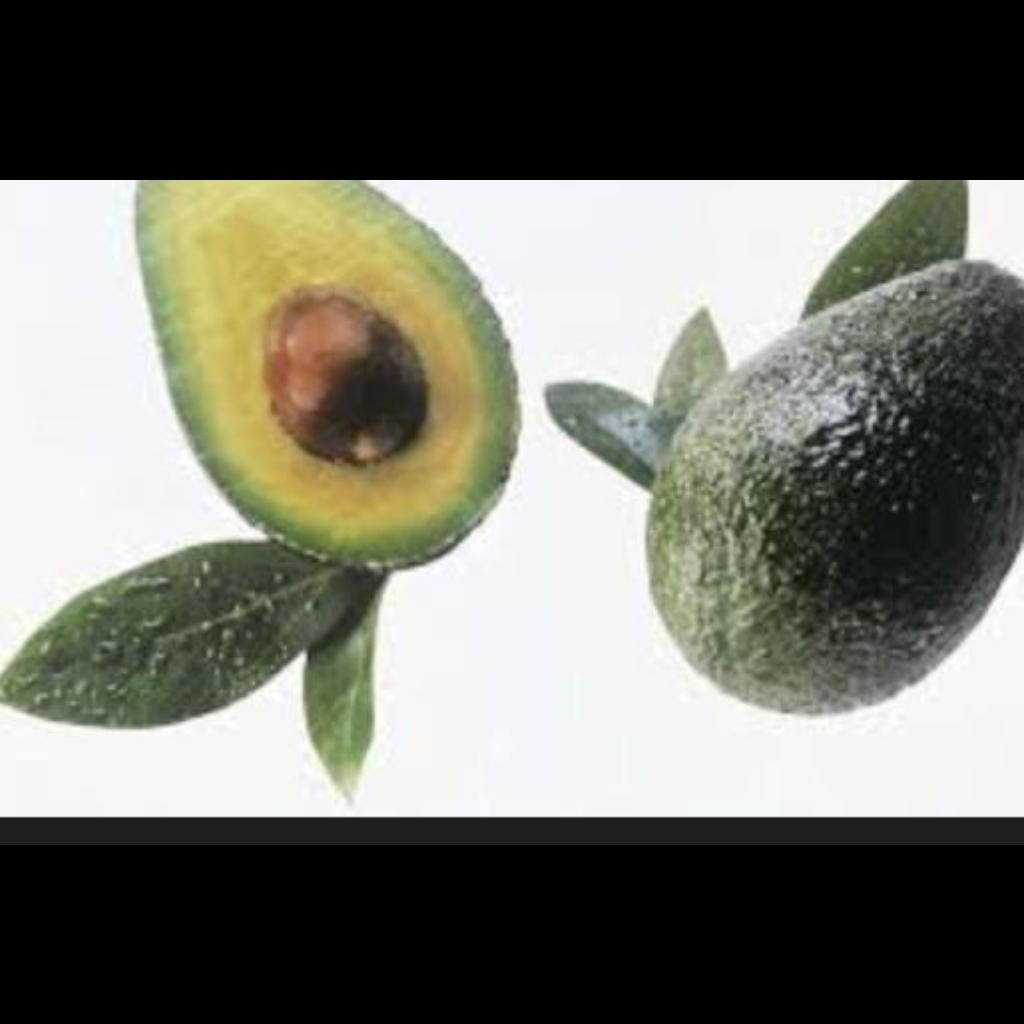Healthy: (104, 192, 566, 586)
